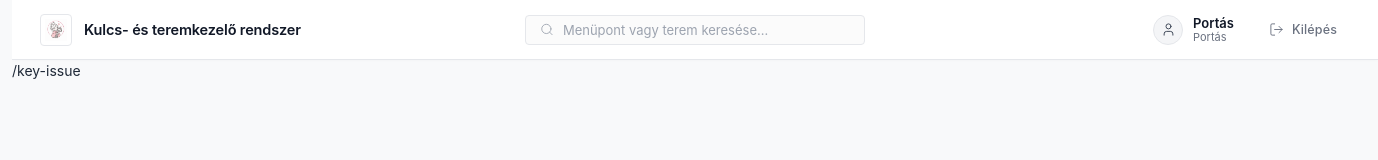
Test case: Navbar search › jumps to a menu page whose name matches
Type "kulcsmozg" into the field labelled "keresés" at (706, 30), box [563,22,850,38]
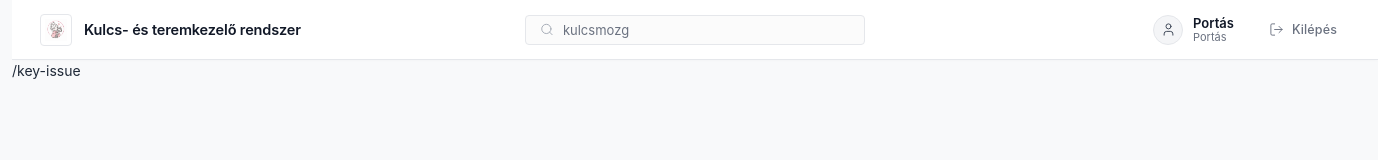
Submit the form, box [525,14,865,44]
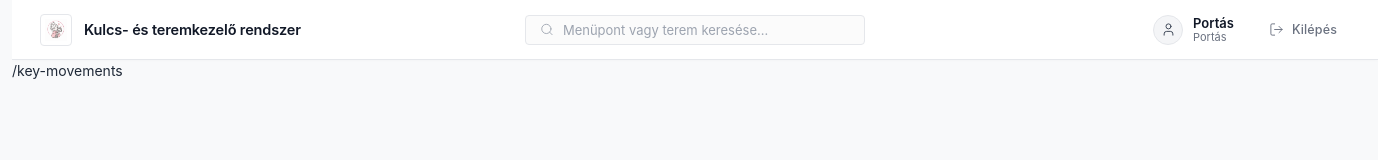
Expected: the text with test id "location" reads "/key-movements", [12,62,123,79]
